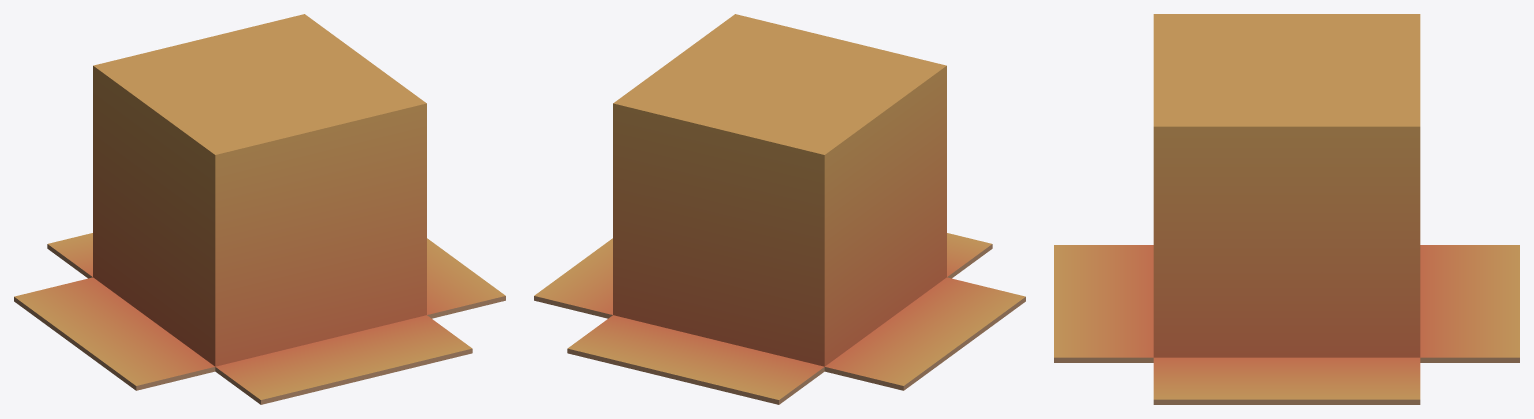
The picture shows the model from 3 angles, left to right: view 1: azimuth 30°, elevation 25°; view 2: azimuth 150°, elevation 25°; view 3: azimuth 270°, elevation 25°; orthographic projection. The views are drawn at different scales.
Visible parts, largest first — view 1: Cube.026; view 2: Cube.026; view 3: Cube.026.
Boxes of the visible parts, x1,y1,x2,y2 form: Cube.026: (14,14,505,404); Cube.026: (534,14,1025,404); Cube.026: (1054,14,1519,404).
Bounding box in the file's own units: 934 × 523 × 934.
